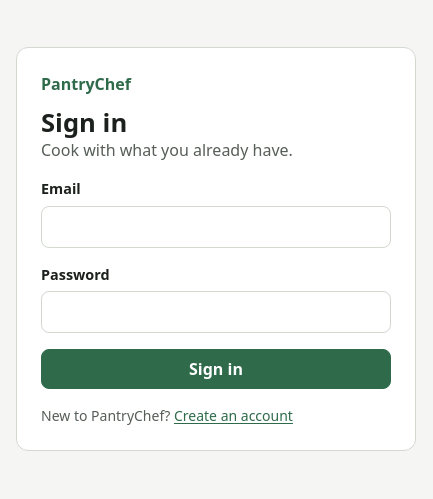
Scenario: sign in › an expired session returns to sign-in with a message
The image size is (433, 499).
Type "cook@example.com" into the field labelled "Email" at coordinates (216, 227), box [41,206,391,248]
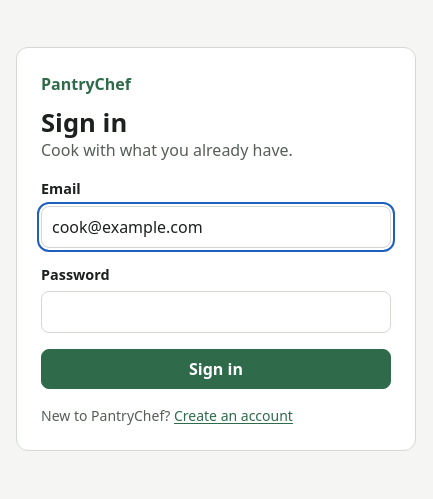
Type "long enough pw" into the password field labelled "Password" at coordinates (216, 312), box [41,292,391,334]
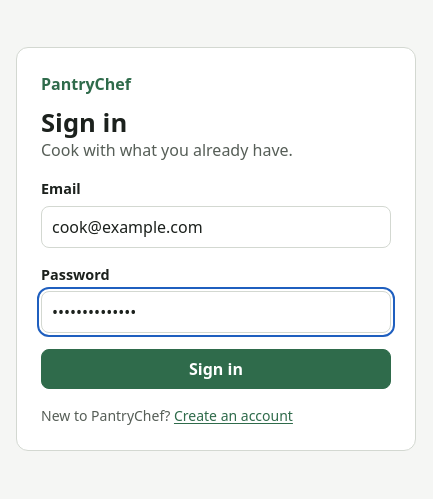
Click the button "Sign in" at coordinates (216, 370), box [41,350,391,390]
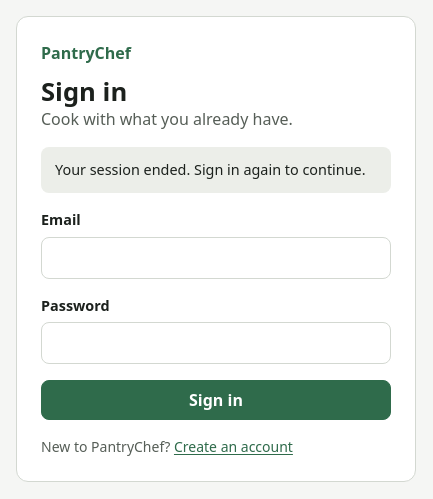
Expected: the heading "Sign in" is shown, [41,74,127,109]
Expected: the text "Your session ended. Sign in again to continue." is shown, [41,147,391,193]
